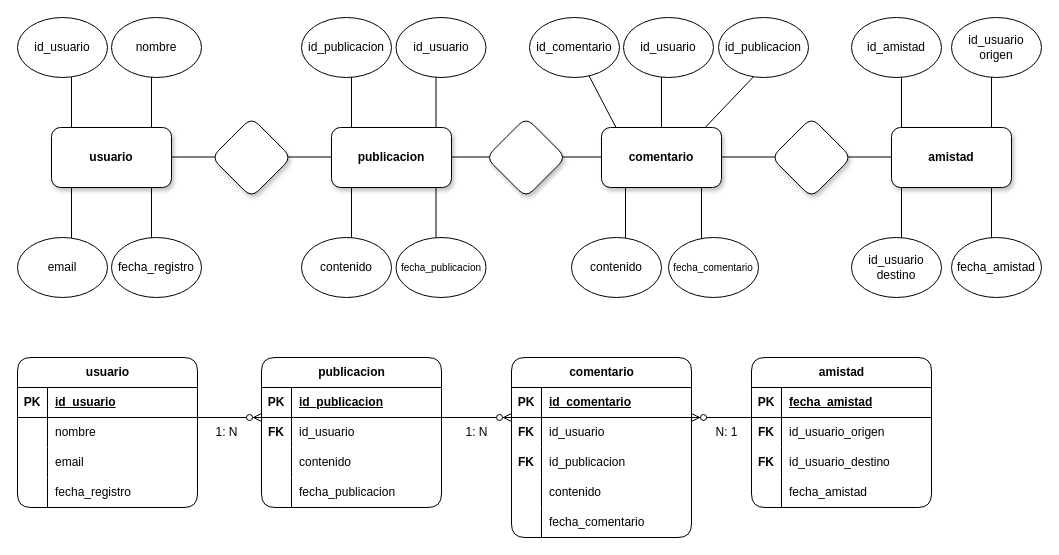
The diagram is 1059 pixels wide and 555 high, and some of its shapes have lost their labels. The shapes that lost their labels are listed below. From the top down, each one's centre as x and y in pixels, then its label:
point 252,158: realiza
point 526,158: contiene
point 812,158: de
